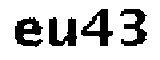3: (117, 6, 149, 52)
4: (79, 7, 114, 51)
e: (14, 17, 44, 50)
u: (47, 14, 80, 52)
